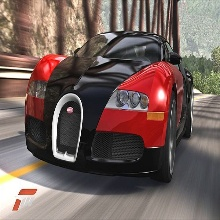no damage: (24, 30, 194, 182)
